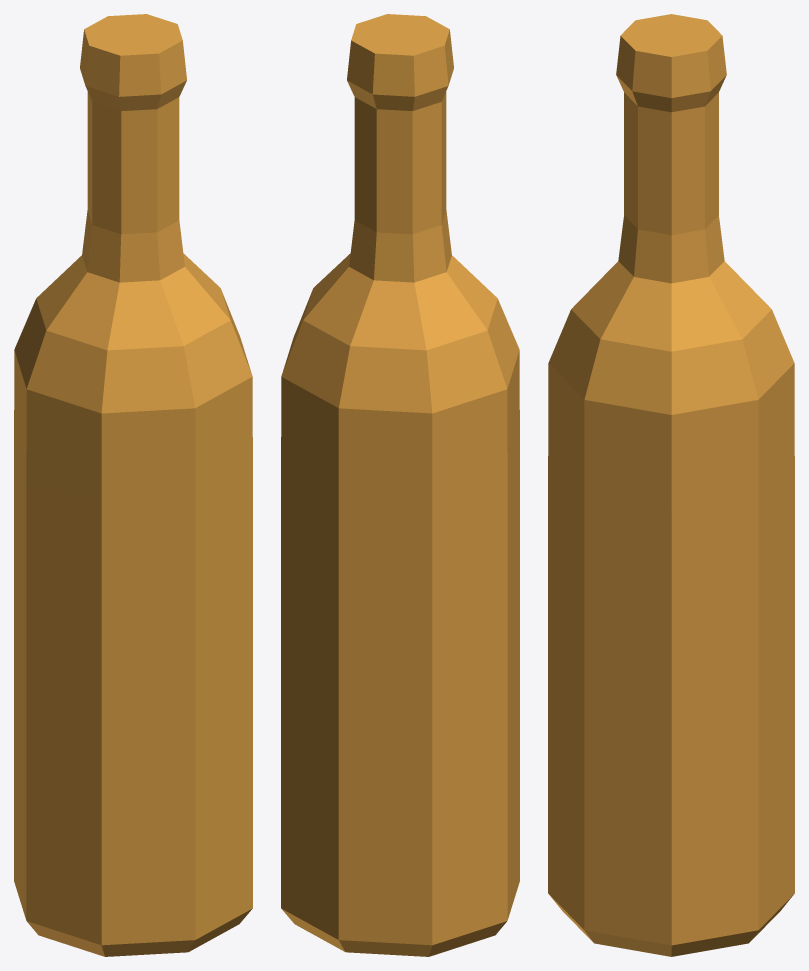
The model's file is drinks-wine-bottle-red.glb.
3 renders of one model, left to right at view 1: azimuth 30°, elevation 25°; view 2: azimuth 150°, elevation 25°; view 3: azimuth 270°, elevation 25°, orthographic.
Visible parts, largest first — view 1: wine-bottle-red; view 2: wine-bottle-red; view 3: wine-bottle-red.
Boxes of the visible parts, x1,y1,x2,y2 form: wine-bottle-red: (14, 14, 252, 956); wine-bottle-red: (281, 14, 519, 956); wine-bottle-red: (548, 14, 794, 956).
Size of the model in its own units: 0.0847 by 0.3317 by 0.0847.
